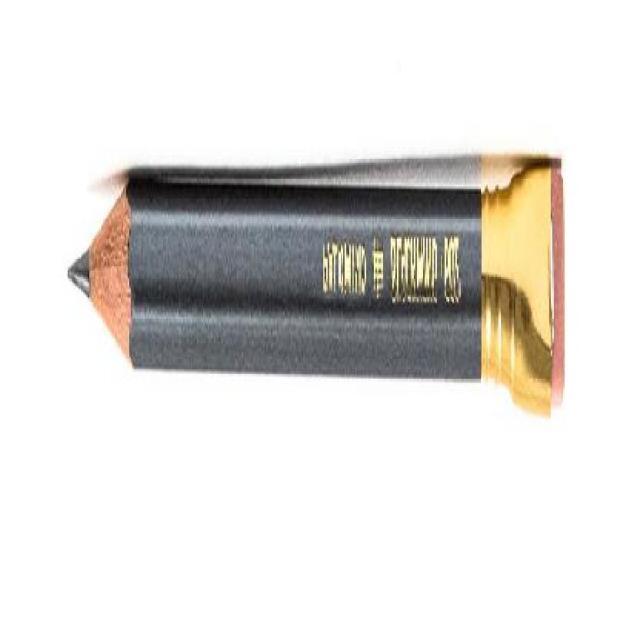pencil: (64, 138, 140, 398)
